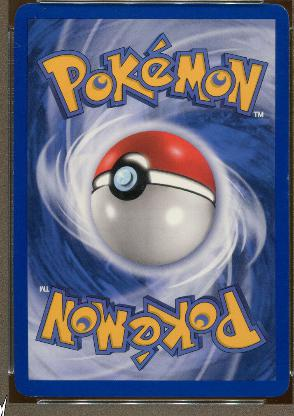Card: (13, 1, 289, 401)
Edge Wear: (285, 172, 288, 202), (29, 395, 44, 396)
Scratch: (14, 42, 20, 48), (32, 15, 36, 19)
